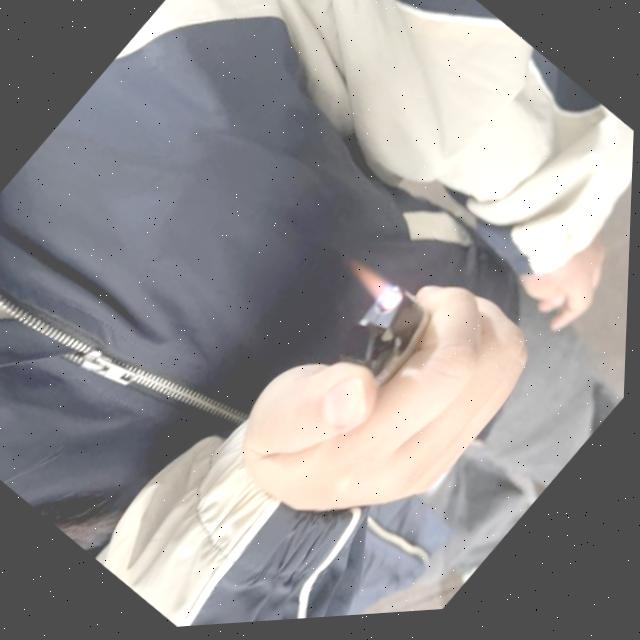Fire: (345, 259, 407, 318)
